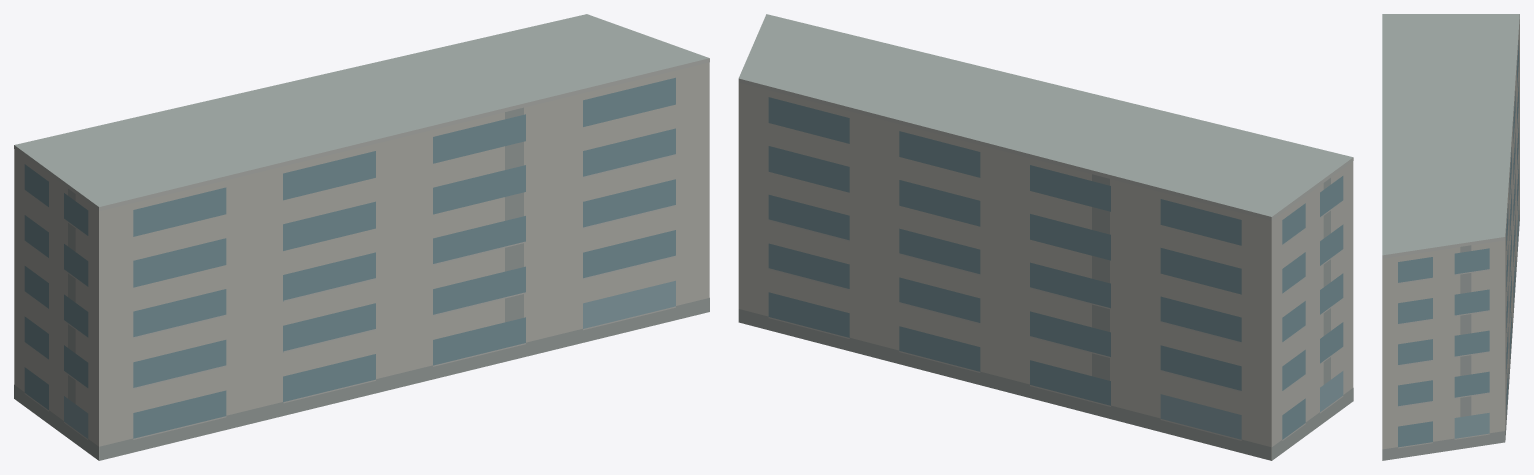
The model's file is residential-973b0149-f838-4b9a-90f7-258700282b84.glb.
3 renders of one model, left to right at view 1: azimuth 30°, elevation 25°; view 2: azimuth 150°, elevation 25°; view 3: azimuth 270°, elevation 25°, orthographic. The views are drawn at different scales.
Visible parts, largest first — view 1: residential-973b0149-f838-4b9a-90f7-258700282b84.tmp; view 2: residential-973b0149-f838-4b9a-90f7-258700282b84.tmp; view 3: residential-973b0149-f838-4b9a-90f7-258700282b84.tmp.
Part boxes in pixels (x1,y1,x2,y2): residential-973b0149-f838-4b9a-90f7-258700282b84.tmp: [14, 14, 709, 460]; residential-973b0149-f838-4b9a-90f7-258700282b84.tmp: [738, 14, 1353, 460]; residential-973b0149-f838-4b9a-90f7-258700282b84.tmp: [1382, 14, 1519, 460].
Bounding box in the file's own units: 38.42 × 15.25 × 9.27.
